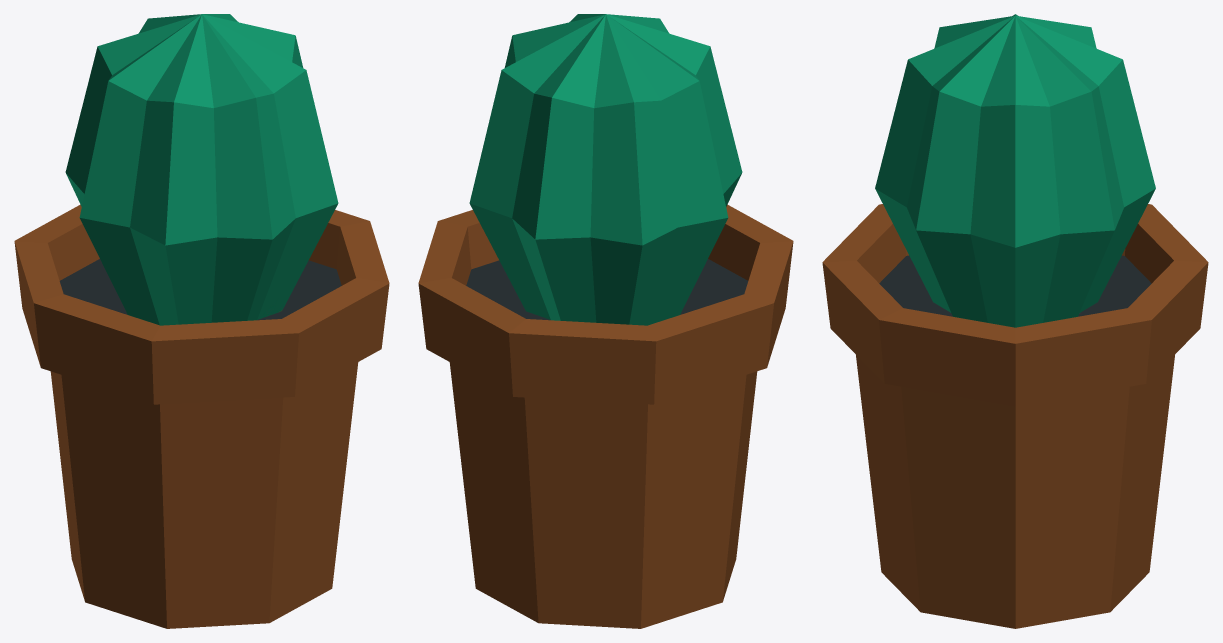
The model's file is cactus.fbx.
3 renders of one model, left to right at view 1: azimuth 30°, elevation 25°; view 2: azimuth 150°, elevation 25°; view 3: azimuth 270°, elevation 25°, orthographic.
Visible parts, largest first — view 1: cactus; view 2: cactus; view 3: cactus.
Part boxes in pixels (box(x1,y1,x2,y2)): cactus: box(14, 14, 389, 628); cactus: box(418, 14, 793, 628); cactus: box(822, 14, 1208, 628).
Bounding box in the file's own units: 49.87 × 79.33 × 49.87.
Materials: 1 (1 with a texture image).
